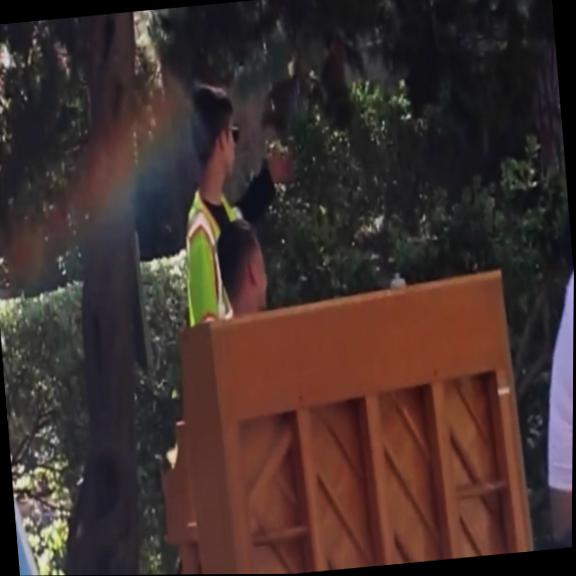safety_vest: (178, 188, 248, 327)
